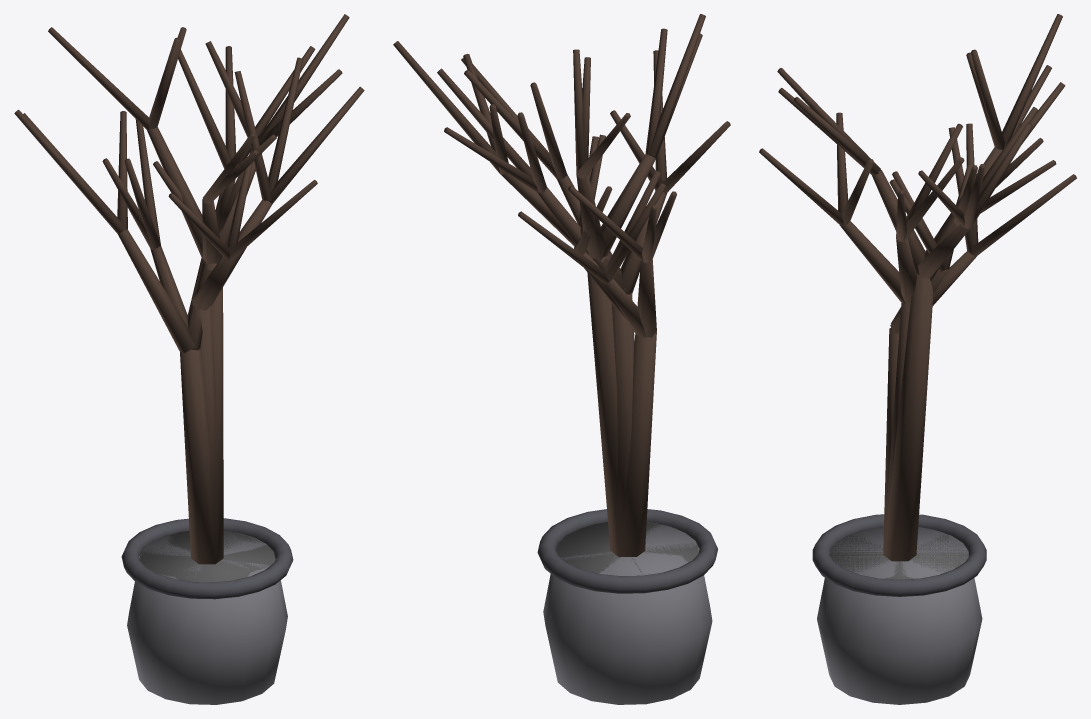
Rendered from withered_plant_dead_tree_b.glb.
The picture shows the model from 3 angles, left to right: view 1: azimuth 30°, elevation 25°; view 2: azimuth 150°, elevation 25°; view 3: azimuth 270°, elevation 25°; orthographic projection. The views are drawn at different scales.
Parts seen in each view (by area): view 1: GD_withered_plant_dead_tree_b__m2, GD_withered_plant_dead_tree_b__m0, GD_withered_plant_dead_tree_b__m1, GD_withered_plant_dead_tree_b__m3; view 2: GD_withered_plant_dead_tree_b__m2, GD_withered_plant_dead_tree_b__m0, GD_withered_plant_dead_tree_b__m1, GD_withered_plant_dead_tree_b__m3; view 3: GD_withered_plant_dead_tree_b__m2, GD_withered_plant_dead_tree_b__m0, GD_withered_plant_dead_tree_b__m1, GD_withered_plant_dead_tree_b__m3.
Boxes of the visible parts, x1,y1,x2,y2 form: GD_withered_plant_dead_tree_b__m2: [14, 14, 364, 564]; GD_withered_plant_dead_tree_b__m0: [127, 531, 287, 704]; GD_withered_plant_dead_tree_b__m1: [121, 518, 293, 599]; GD_withered_plant_dead_tree_b__m3: [140, 530, 275, 582]; GD_withered_plant_dead_tree_b__m2: [393, 14, 730, 556]; GD_withered_plant_dead_tree_b__m0: [543, 522, 712, 704]; GD_withered_plant_dead_tree_b__m1: [537, 509, 717, 593]; GD_withered_plant_dead_tree_b__m3: [556, 522, 698, 574]; GD_withered_plant_dead_tree_b__m2: [759, 14, 1076, 561]; GD_withered_plant_dead_tree_b__m0: [817, 526, 982, 704]; GD_withered_plant_dead_tree_b__m1: [812, 514, 986, 596]; GD_withered_plant_dead_tree_b__m3: [830, 527, 968, 579].
Bounding box in the file's own units: 0.8582 × 1.68 × 0.7678.
